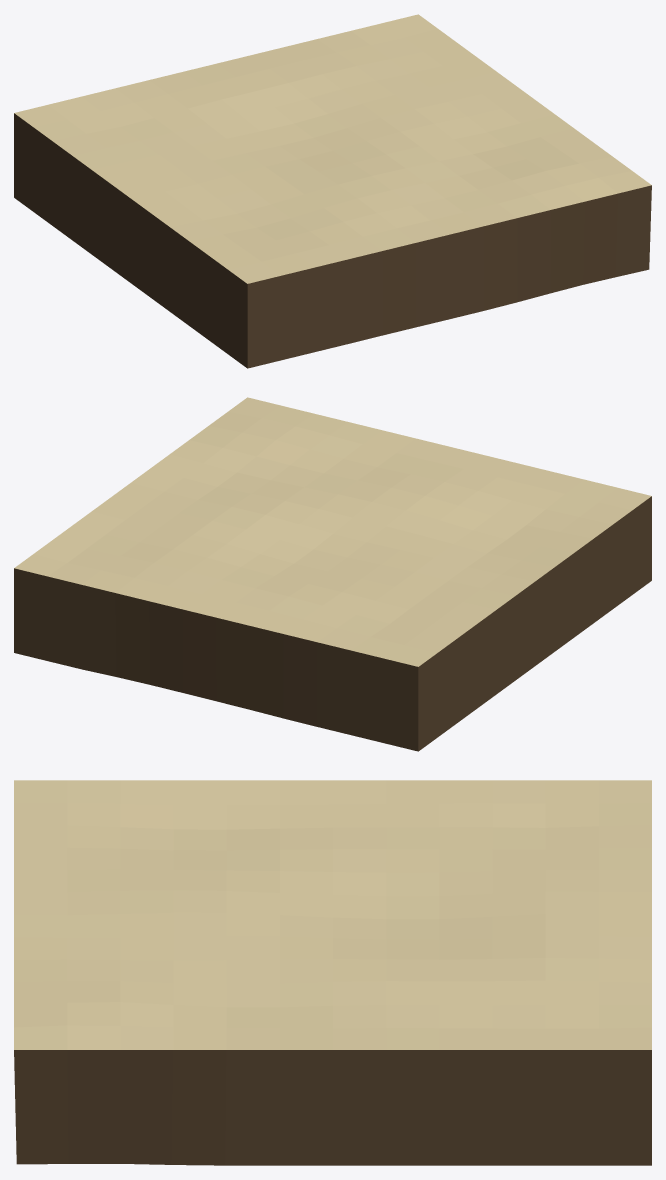
File: sand_02.glb
3 views of the same model, one above another, from view 1: azimuth 30°, elevation 25°; view 2: azimuth 150°, elevation 25°; view 3: azimuth 270°, elevation 25° (orthographic). The views are drawn at different scales.
Visible parts, largest first — view 1: Grid; view 2: Grid; view 3: Grid.
Part boxes in pixels (box(x1,y1,x2,y2)): Grid: box(14, 14, 651, 368); Grid: box(14, 397, 651, 751); Grid: box(14, 780, 651, 1165).
Size of the model in its own units: 1 by 0.2053 by 1.
